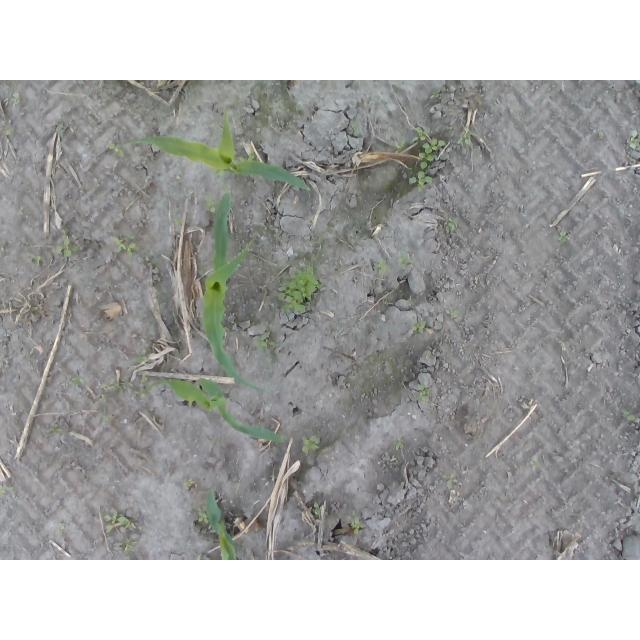Maize: (117, 108, 312, 195), (204, 193, 276, 400), (137, 373, 288, 446), (207, 488, 242, 560)
Weeds: (410, 128, 447, 190), (278, 267, 319, 314), (103, 511, 140, 554), (100, 381, 142, 396), (252, 332, 276, 356), (55, 236, 80, 258), (113, 235, 139, 253), (302, 437, 322, 454), (349, 513, 363, 532), (458, 130, 474, 146), (621, 409, 639, 423), (375, 261, 390, 275), (629, 130, 640, 149), (400, 250, 412, 266), (419, 386, 431, 402), (447, 219, 459, 234), (558, 230, 570, 244), (445, 476, 456, 489), (29, 253, 40, 265), (99, 414, 110, 425), (134, 349, 146, 359), (397, 139, 407, 151), (72, 376, 85, 385), (0, 481, 8, 495), (313, 503, 321, 517), (448, 309, 460, 318), (413, 322, 425, 331), (352, 122, 361, 132), (396, 442, 405, 451), (54, 426, 67, 431)
